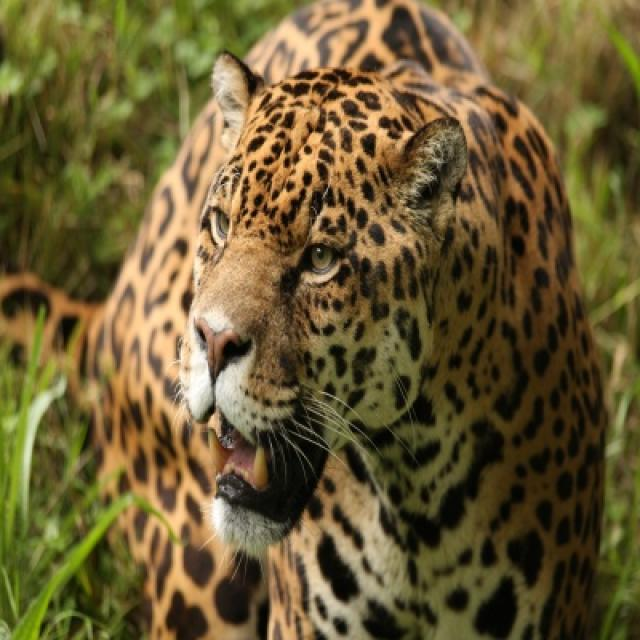Jaguar: (0, 0, 608, 638)
